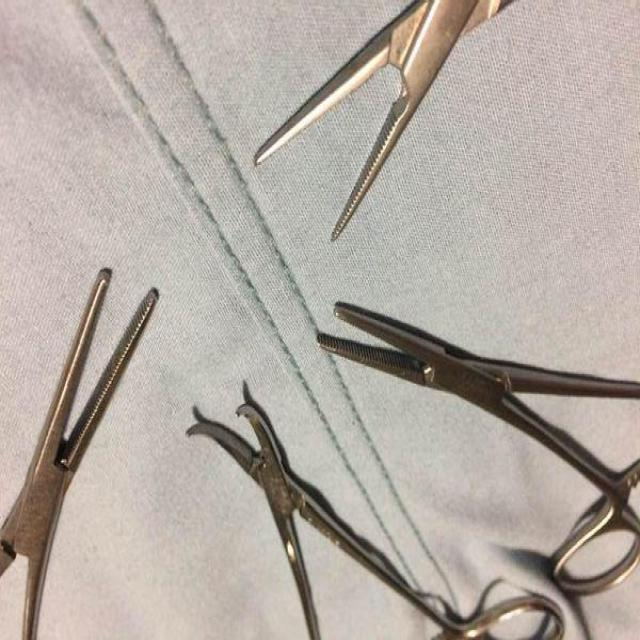Hemostat: (313, 301, 640, 609), (181, 393, 572, 640), (252, 0, 514, 252), (0, 265, 161, 640)
